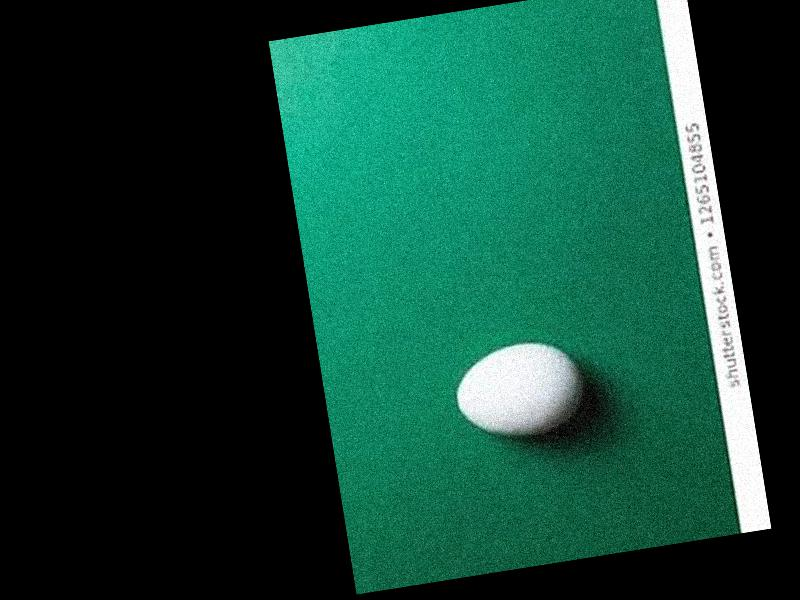Eggs: (450, 331, 589, 442)
